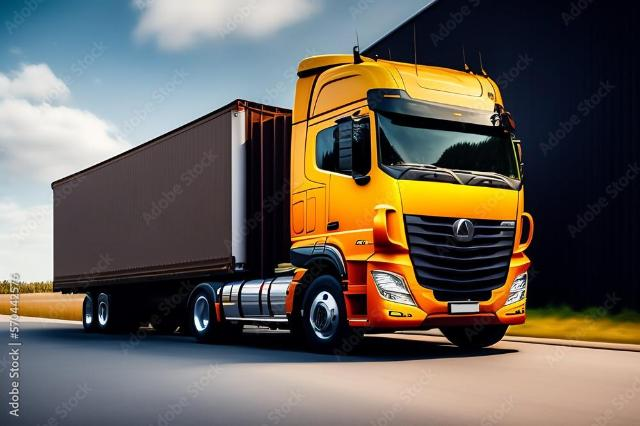truck: (43, 42, 540, 358)
